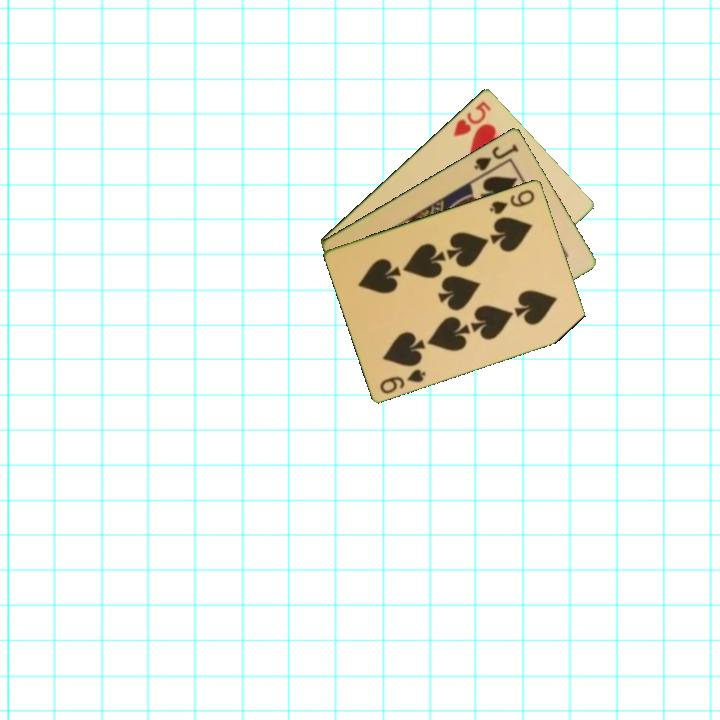5h: (450, 97, 494, 139)
9s: (376, 365, 429, 396), (486, 186, 538, 217)
Js: (470, 140, 521, 173)
